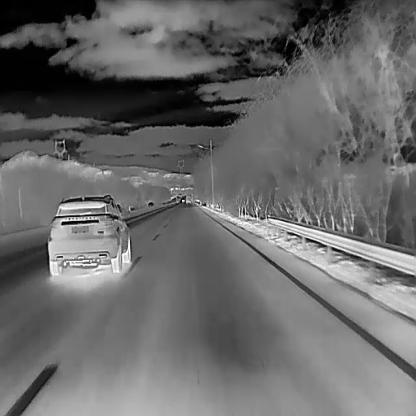car: (46, 191, 134, 276), (185, 194, 192, 205), (147, 201, 154, 207), (181, 197, 185, 203)
